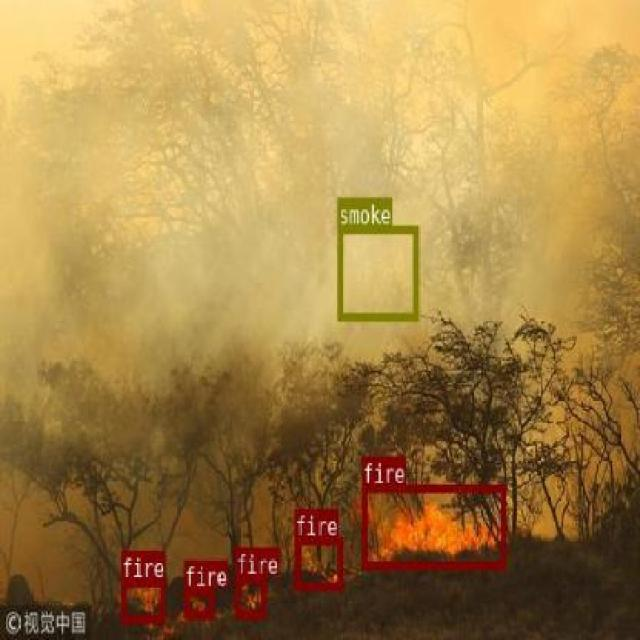Fire: (362, 483, 504, 568), (294, 536, 342, 590), (121, 576, 164, 622), (234, 574, 264, 616), (183, 587, 212, 618)
Smoke: (336, 226, 418, 320)
